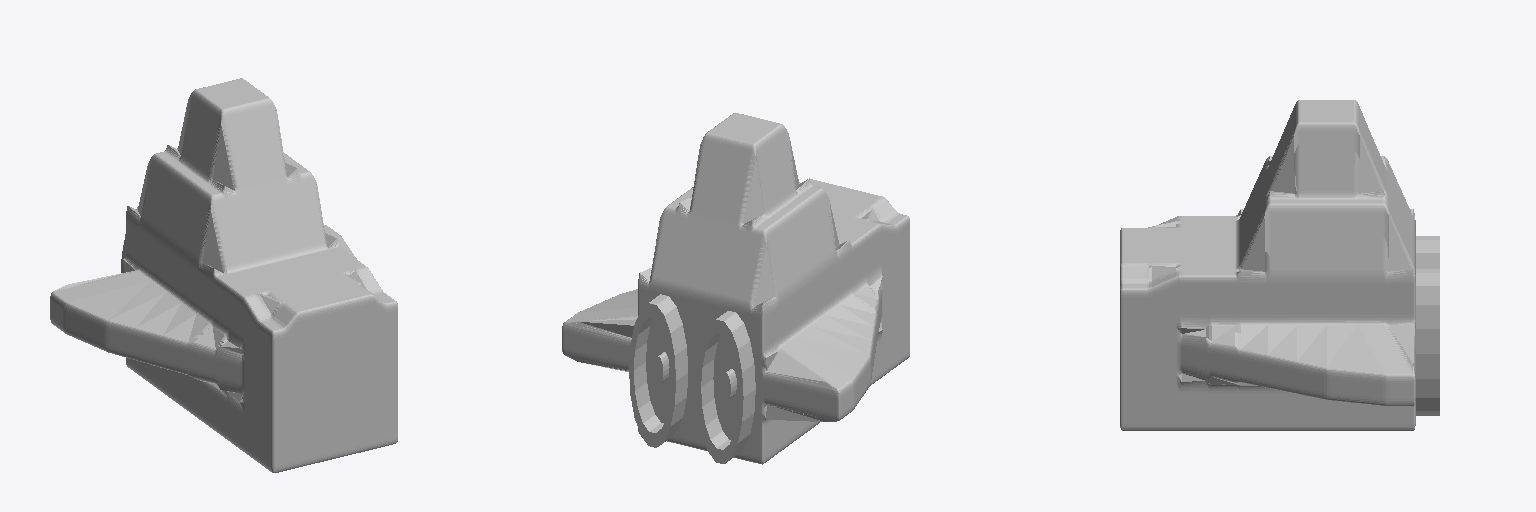
Rendered from ultimateShip.obj.
The picture shows the model from 3 angles: view 1: azimuth 30°, elevation 25°; view 2: azimuth 150°, elevation 25°; view 3: azimuth 270°, elevation 25°; orthographic projection.
Parts seen in each view (by area): view 1: Box001; view 2: Box001; view 3: Box001.
Boxes of the visible parts, box(x1,y1,x2,y2) form: Box001: box(50, 78, 397, 472); Box001: box(562, 113, 909, 464); Box001: box(1120, 100, 1439, 430).
Bounding box in the file's own units: 1 × 1 × 1.